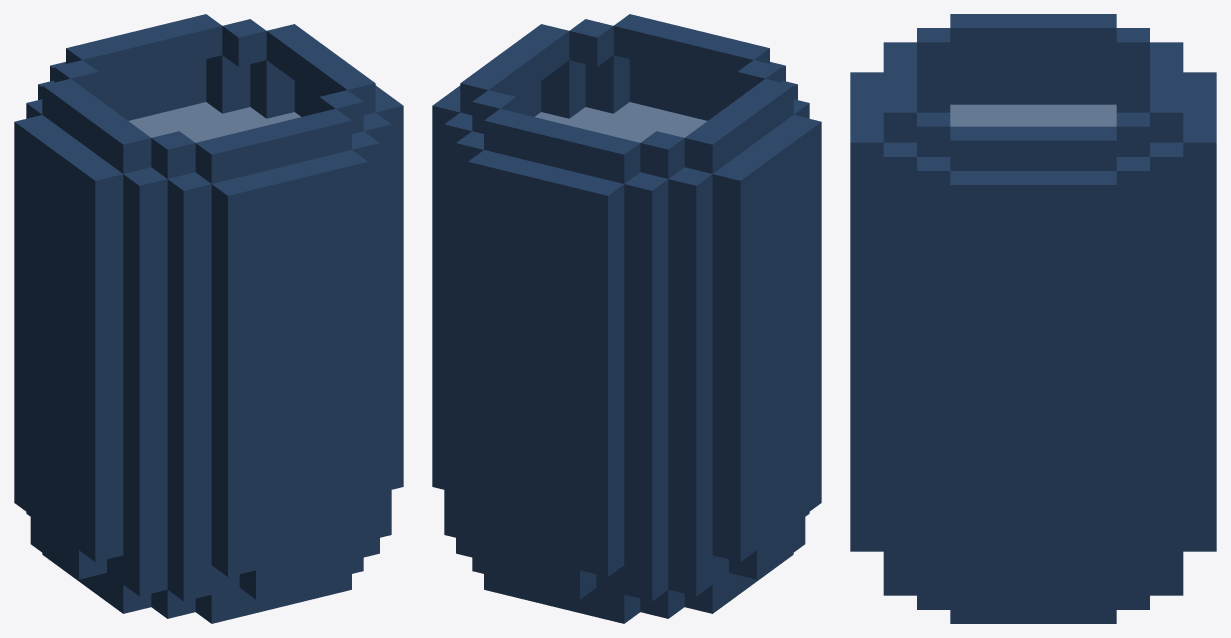
File: Camburao.fbx
3 renders of one model, left to right at view 1: azimuth 30°, elevation 25°; view 2: azimuth 150°, elevation 25°; view 3: azimuth 270°, elevation 25°, orthographic. The views are drawn at different scales.
Visible parts, largest first — view 1: Camburao.001; view 2: Camburao.001; view 3: Camburao.001.
Boxes of the visible parts, x1=… form: Camburao.001: x1=14, y1=14, x2=403, y2=623; Camburao.001: x1=432, y1=14, x2=821, y2=623; Camburao.001: x1=850, y1=14, x2=1216, y2=623.
Bounding box in the file's own units: 1.1 × 1.6 × 1.1.
1 material, 1 textured.
